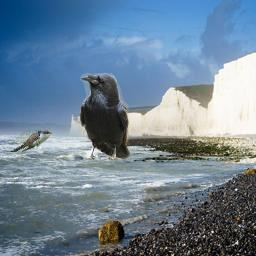Crow: (79, 73, 130, 160)
Cuckoo: (9, 130, 52, 152)
